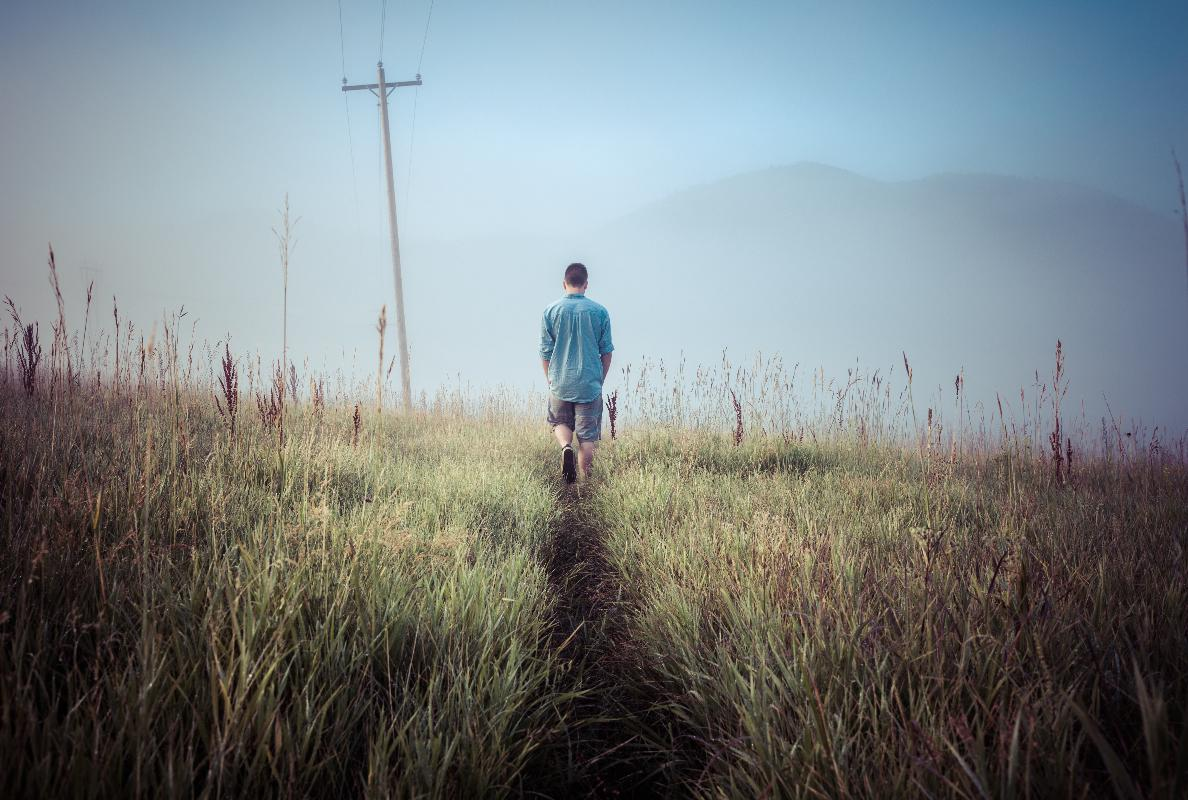Person: (533, 267, 624, 500)
